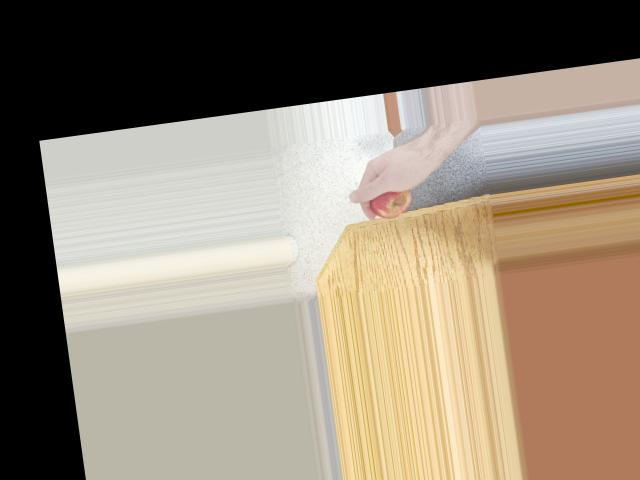apple: (365, 180, 415, 222)
